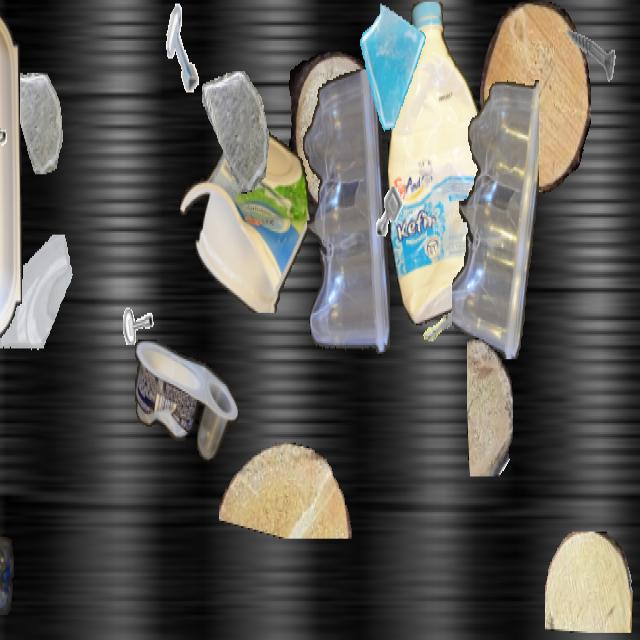glass: (0, 234, 78, 380), (356, 2, 430, 133), (202, 71, 270, 192), (8, 73, 64, 172)
metal: (406, 271, 464, 374), (558, 2, 616, 105), (158, 2, 210, 94), (113, 265, 157, 343), (368, 174, 410, 249), (0, 73, 17, 179)
plastic: (388, 2, 490, 325), (300, 69, 390, 361), (180, 124, 310, 313), (452, 73, 538, 357), (135, 340, 237, 460), (0, 2, 22, 350), (0, 519, 14, 615)
wood: (480, 2, 590, 194), (286, 52, 382, 212), (219, 442, 355, 538), (545, 532, 633, 631), (467, 338, 513, 476)
